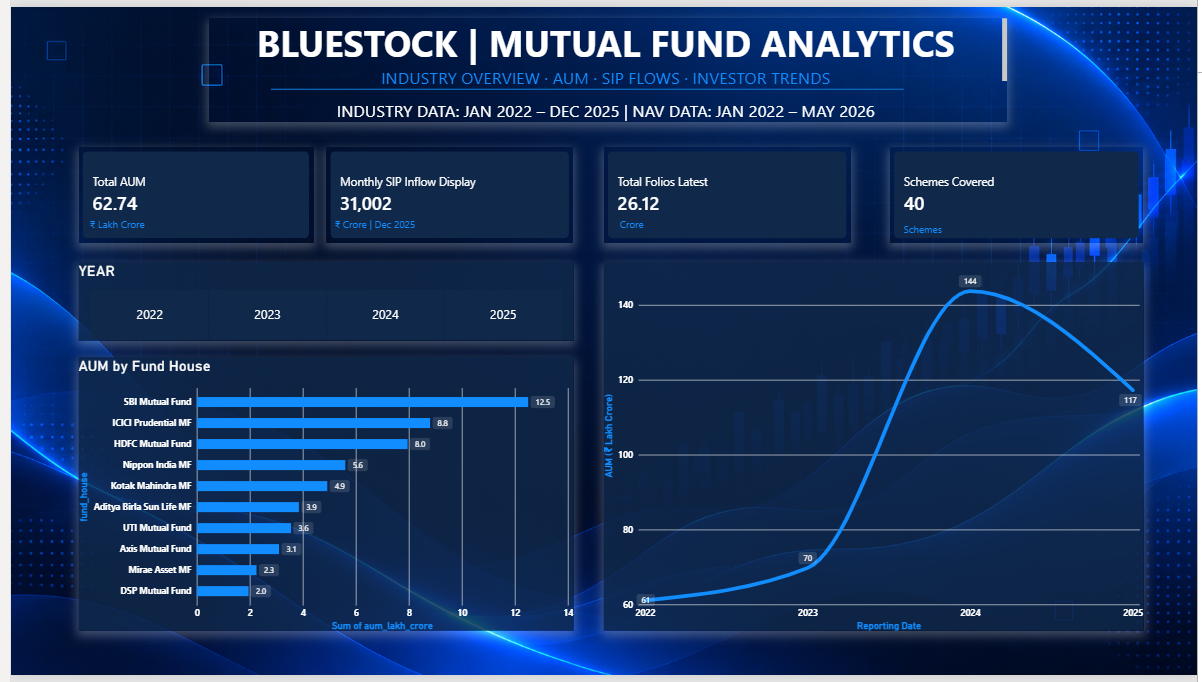

The dashboard page shown, as its layout file describes it:
{"tool":"powerbi","page":{"name":"Page 1","canvas":[1920,1080],"ordinal":0},"visuals":[{"type":"textbox","box":[319.7,18.2,1293.1,168],"z":0},{"type":"shape","box":[420,18,1024,230],"z":1000},{"type":"cardVisual","fields":{"Data":["01_fund_master.Total AUM"]},"box":[109.3,226.6,380.4,155.8],"z":2000},{"type":"textbox","box":[127.5,340,528,150],"z":3000},{"type":"cardVisual","fields":{"Data":["01_fund_master.Monthly SIP Inflow Display"]},"box":[510,227.5,400,155],"z":4000},{"type":"textbox","box":[524.1,340,528,150],"z":5000},{"type":"cardVisual","fields":{"Data":["01_fund_master.Total Folios Latest"]},"box":[959.2,226.6,400.7,155.8],"z":6000},{"type":"cardVisual","fields":{"Data":["01_fund_master.Schemes Covered"]},"box":[1422.5,227.5,410,155],"z":7000},{"type":"textbox","box":[985.5,340,104,112],"z":8000},{"type":"textbox","box":[1445,347.5,300,300],"z":9000},{"type":"lineChart","title":"Industry AUM Growth","fields":{"Category":["03_aum_by_fund_house.date.Variation.Date Hierarchy.Year","03_aum_by_fund_house.date.Variation.Date Hierarchy.Quarter","03_aum_by_fund_house.date.Variation.Date Hierarchy.Month","03_aum_by_fund_house.date.Variation.Date Hierarchy.Day"],"Y":["Sum(03_aum_by_fund_house.aum_lakh_crore)"]},"box":[959.2,412.8,874.2,597],"z":10000},{"type":"slicer","title":"YEAR","fields":{"Values":["03_aum_by_fund_house.date.Variation.Date Hierarchy.Year"]},"box":[109.3,412.8,801.4,127.5],"z":11000},{"type":"clusteredBarChart","title":"AUM by Fund House","fields":{"Category":["03_aum_by_fund_house.fund_house"],"Y":["Sum(03_aum_by_fund_house.aum_lakh_crore)"]},"box":[109.3,566.6,801.4,443.2],"z":12000}]}

Visuals, with their boxes in screenshot pixels (x1, y1, x2, y2), scaled from the page's 1920x1080 canvas onto the 1202x682 screenshot:
textbox: l=200, t=11, r=1010, b=118
shape: l=263, t=11, r=904, b=157
cardVisual - 01_fund_master.Total AUM: l=68, t=143, r=307, b=241
textbox: l=80, t=215, r=410, b=309
cardVisual - 01_fund_master.Monthly SIP Inflow Display: l=319, t=144, r=570, b=242
textbox: l=328, t=215, r=659, b=309
cardVisual - 01_fund_master.Total Folios Latest: l=600, t=143, r=851, b=241
cardVisual - 01_fund_master.Schemes Covered: l=891, t=144, r=1147, b=242
textbox: l=617, t=215, r=682, b=285
textbox: l=905, t=219, r=1092, b=409
"Industry AUM Growth" lineChart: l=600, t=261, r=1148, b=638
"YEAR" slicer: l=68, t=261, r=570, b=341
"AUM by Fund House" clusteredBarChart: l=68, t=358, r=570, b=638
